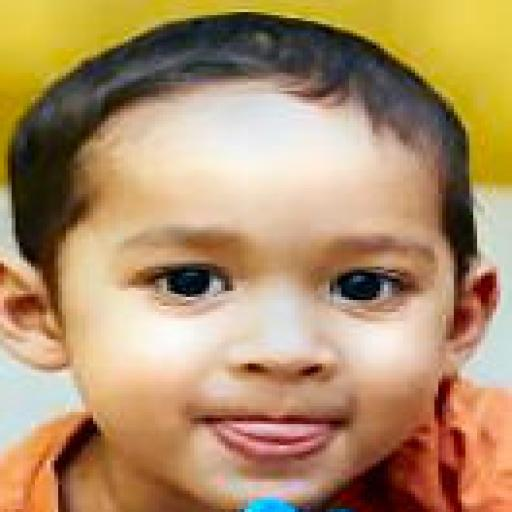Autism: (23, 22, 512, 507)
